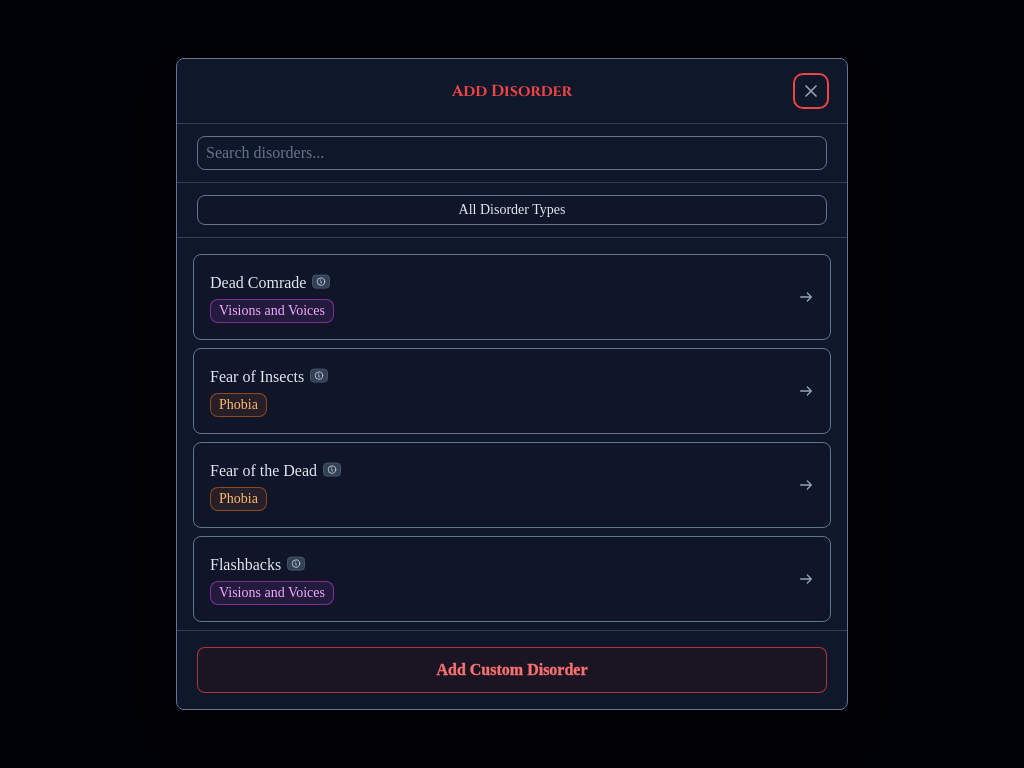
Test: InsanityDisorderPicker › shows a severity sub-screen defaulting to the first option
Step 1. Click the text "Fear of the Dead" → (264, 471), box [210,459,317,483]
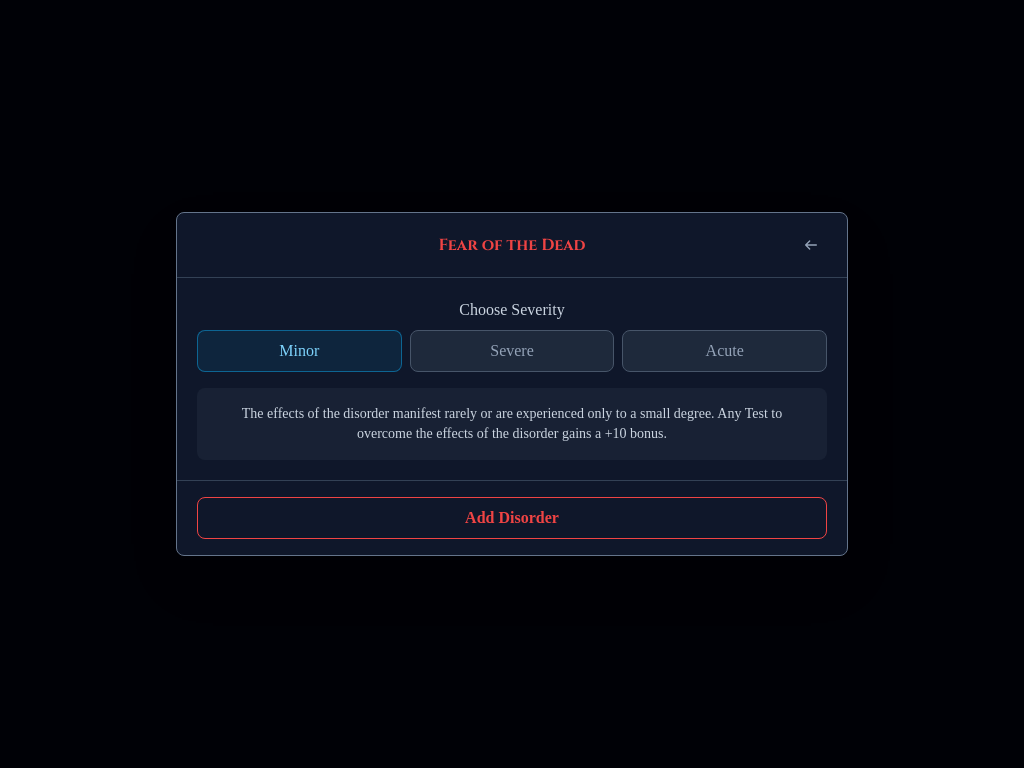
Result: the text "Choose Severity" is shown at [459,301,565,318]
Result: the button "Minor" is shown at [197,330,402,372]
